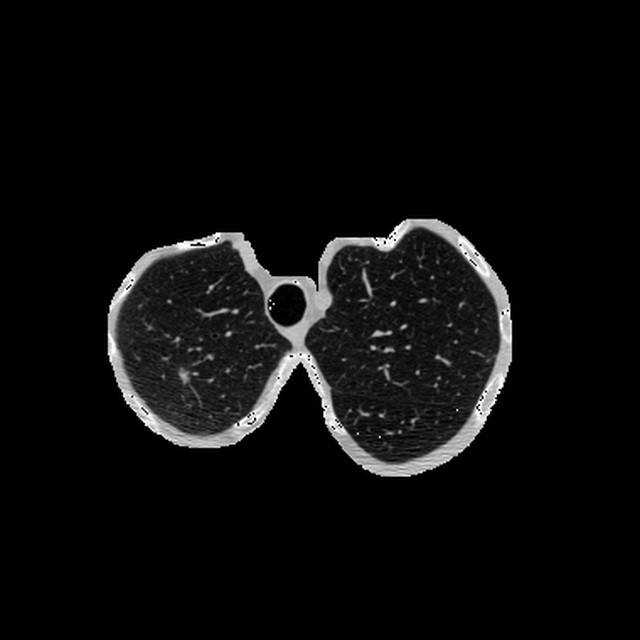PN: (179, 369, 189, 379)
